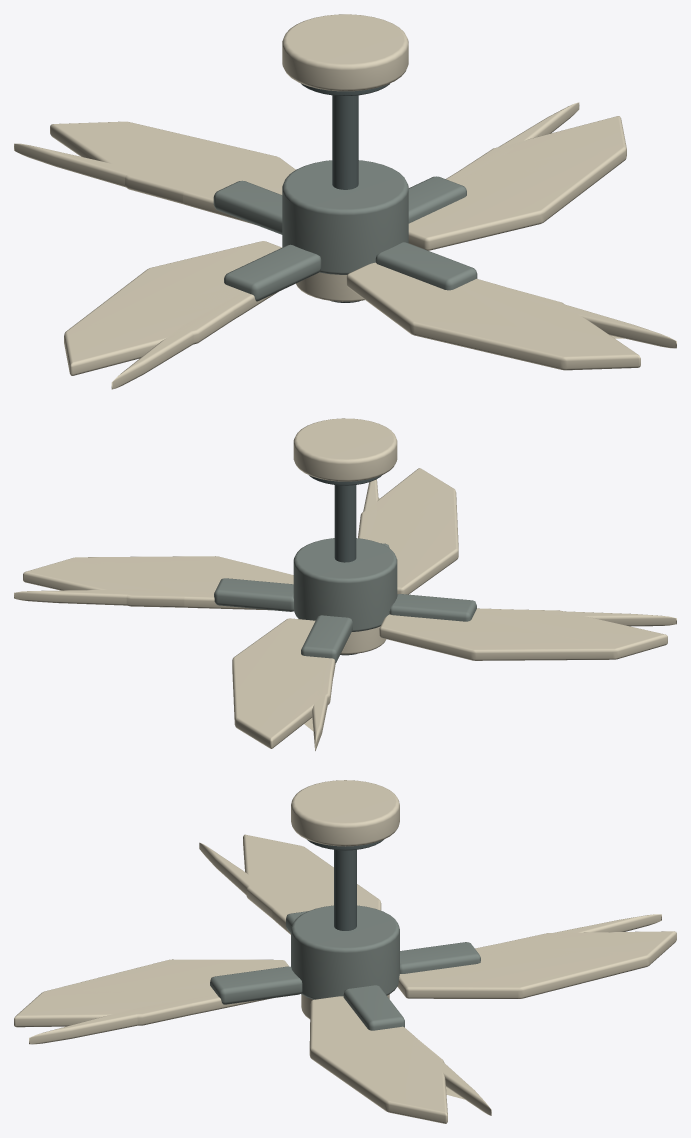
File: classroom_ceiling_fan.glb
3 renders of one model, top to bottom at view 1: azimuth 30°, elevation 25°; view 2: azimuth 150°, elevation 25°; view 3: azimuth 270°, elevation 25°, orthographic. The views are drawn at different scales.
Visible parts, largest first — view 1: Fan_blade_04, Fan_blade_01, Fan_blade_03, Fan_blade_02, Fan_motor_upper, Fan_ceiling_canopy, Fan_blade_root.002, Fan_blade_root.003, Fan_downrod, Fan_blade_root.001, Fan_blade_root, Fan_motor_lower; view 2: Fan_blade_03, Fan_blade_01, Fan_blade_02, Fan_blade_04, Fan_motor_upper, Fan_ceiling_canopy, Fan_blade_root, Fan_blade_root.002, Fan_downrod, Fan_blade_root.001, Fan_motor_lower; view 3: Fan_blade_02, Fan_blade_04, Fan_blade_01, Fan_motor_upper, Fan_blade_03, Fan_ceiling_canopy, Fan_blade_root.003, Fan_blade_root.001, Fan_downrod, Fan_blade_root.
Part boxes in pixels (x1,y1,x2,y2): Fan_blade_04: (346,262,676,370); Fan_blade_01: (408,102,626,250); Fan_blade_03: (64,241,281,389); Fan_blade_02: (14,121,295,224); Fan_motor_upper: (282,160,408,274); Fan_ceiling_canopy: (282,14,408,91); Fan_blade_root.002: (224,244,321,301); Fan_blade_root.003: (375,242,477,290); Fan_downrod: (332,95,358,189); Fan_blade_root.001: (213,180,282,234); Fan_blade_root: (408,176,466,223); Fan_motor_lower: (296,272,364,301); Fan_blade_03: (379,608,676,660); Fan_blade_01: (14,556,293,610); Fan_blade_02: (232,618,335,750); Fan_blade_04: (358,468,458,594); Fan_motor_upper: (293,538,397,631); Fan_ceiling_canopy: (293,418,397,481); Fan_blade_root: (214,578,293,611); Fan_blade_root.002: (389,594,476,621); Fan_downrod: (334,485,356,562); Fan_blade_root.001: (301,615,352,663); Fan_motor_lower: (341,626,386,654); Fan_blade_02: (397,914,676,998); Fan_blade_04: (14,959,288,1044); Fan_blade_01: (309,996,491,1123); Fan_motor_upper: (291,905,399,999); Fan_blade_03: (199,834,381,934); Fan_ceiling_canopy: (291,780,399,846); Fan_blade_root.003: (210,966,302,1004); Fan_blade_root.001: (400,942,480,973); Fan_downrod: (334,849,356,930); Fan_blade_root: (343,985,404,1030).
Bounding box in the file's own units: 1.28 × 0.4625 × 1.28.
